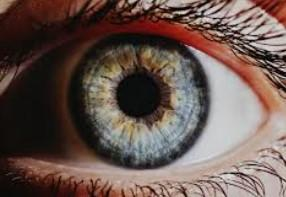eye: (69, 32, 211, 168)
